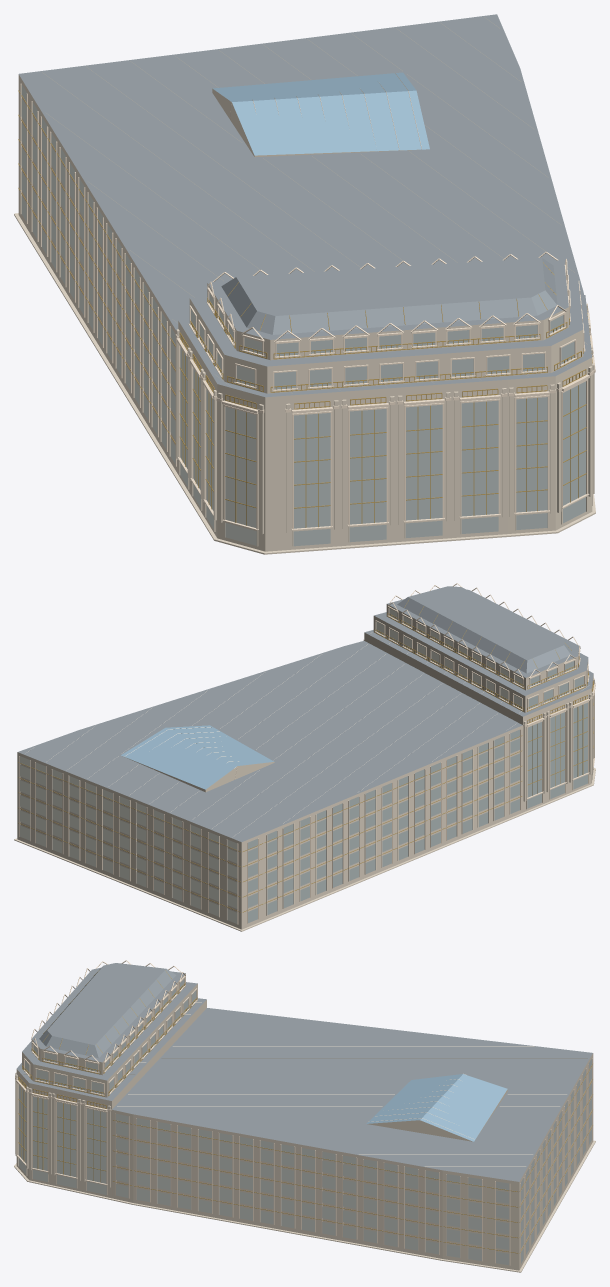
File: detail.glb
3 renders of one model, top to bottom at view 1: azimuth 30°, elevation 25°; view 2: azimuth 150°, elevation 25°; view 3: azimuth 270°, elevation 25°, orthographic. The views are drawn at different scales.
Visible parts, largest first — view 1: roof, stone, window, trim, glass, metal; view 2: roof, stone, window, trim, glass, metal; view 3: roof, stone, window, trim, glass, metal.
Part boxes in pixels (left/top/right/bottom): roof: left=19, top=14, right=591, bottom=397; stone: left=14, top=74, right=595, bottom=554; window: left=21, top=84, right=585, bottom=546; trim: left=20, top=17, right=595, bottom=530; glass: left=212, top=72, right=429, bottom=155; metal: left=18, top=90, right=592, bottom=527; roof: left=18, top=586, right=593, bottom=842; stone: left=14, top=604, right=595, bottom=931; window: left=20, top=608, right=592, bottom=923; trim: left=19, top=583, right=595, bottom=924; glass: left=121, top=725, right=273, bottom=789; metal: left=18, top=600, right=593, bottom=912; roof: left=16, top=963, right=592, bottom=1181; stone: left=14, top=973, right=595, bottom=1272; window: left=18, top=979, right=591, bottom=1265; trim: left=15, top=960, right=592, bottom=1265; glass: left=366, top=1074, right=507, bottom=1141; metal: left=18, top=970, right=593, bottom=1253.
Size of the model in its own units: 94.32 by 32 by 124.
